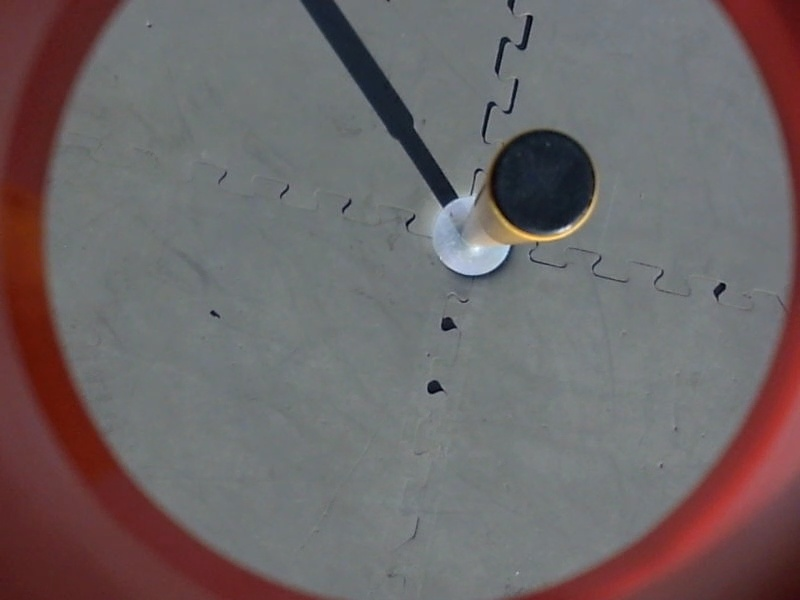tip: (481, 126, 602, 241)
